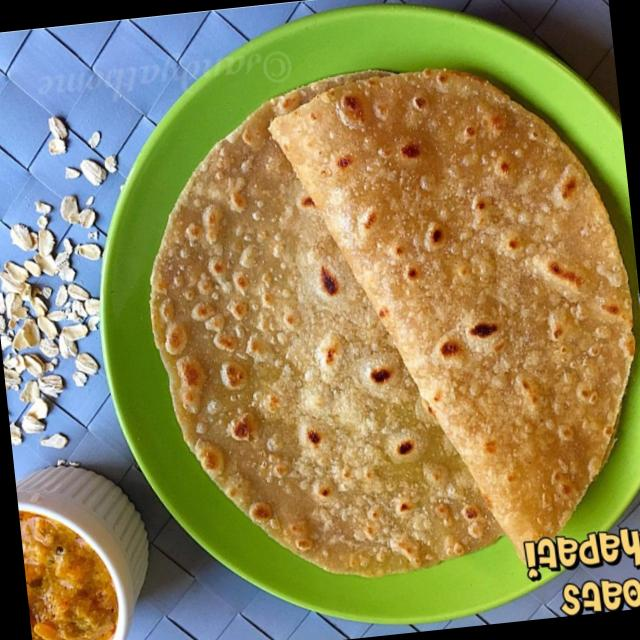roti: (269, 67, 638, 566), (147, 109, 502, 580)
